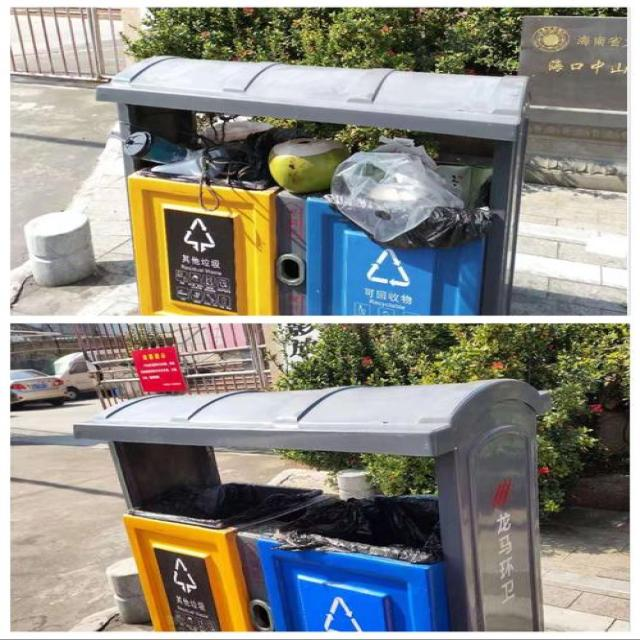garbage_bin: (72, 377, 545, 629)
overflow: (94, 54, 528, 314)
